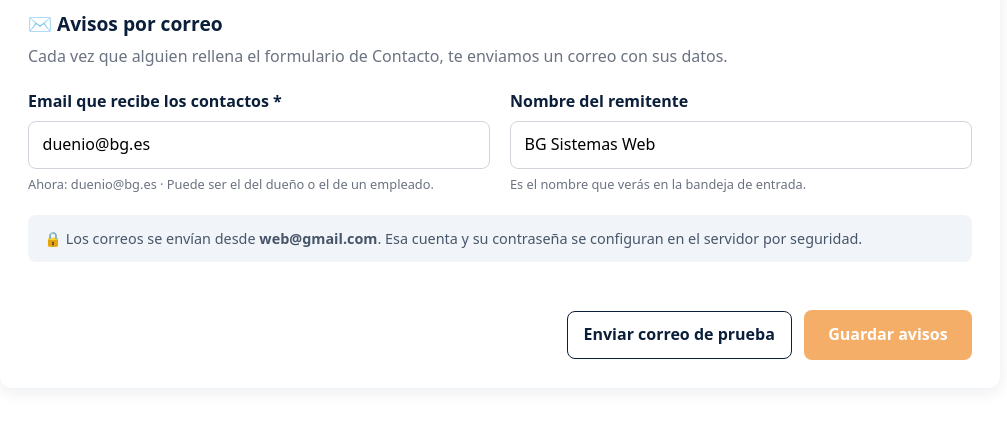
MailSettingsForm (BGSI-261) › asks to repeat the email when it changes and shows when they do not match
Replace the text in the field with id "mail-notify-email" with "nuevo@bg.es". click: (259,145)
box: x1=28 y1=120 x2=490 y2=169
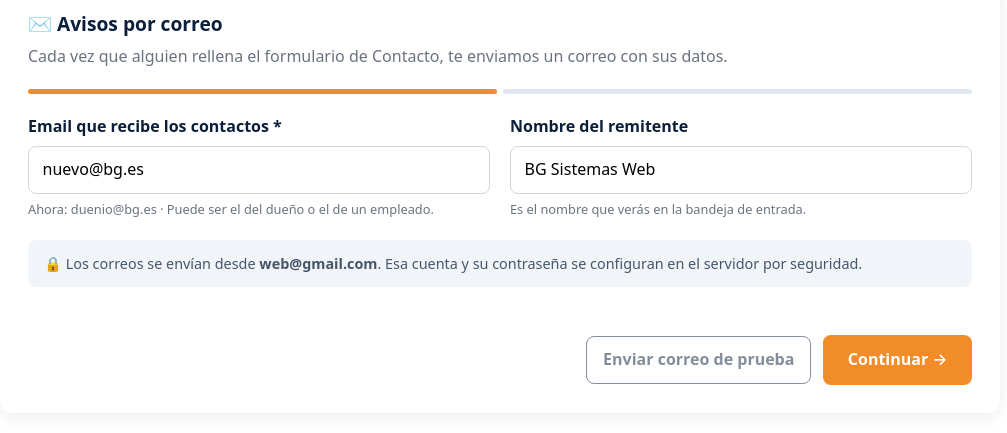
expect the submit button reads "Continuar →": met, box x1=823 y1=335 x2=972 y2=385
Note: Step 2 (BGSI-294): the email is hidden and typed again
Submit the form
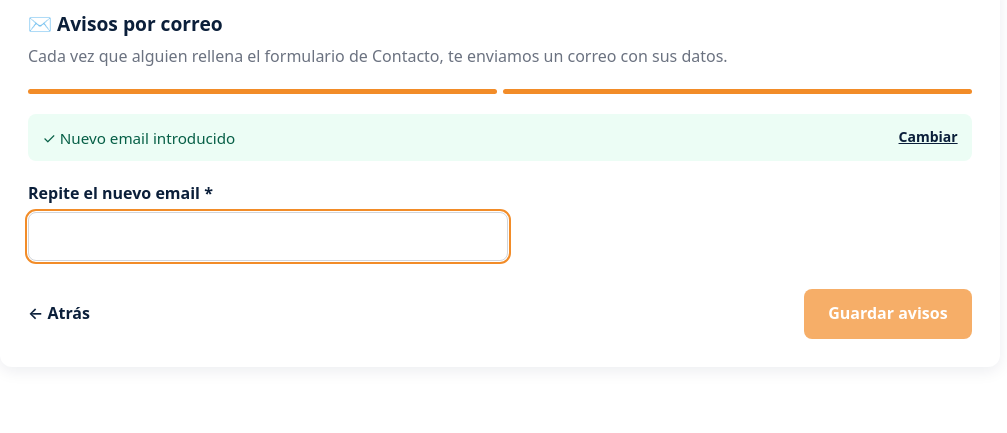
expect the field with id "mail-confirm-email" is shown: met
Type "nuevo@bg.e" into the field with id "mail-confirm-email". click: (268,236)
box: x1=28 y1=212 x2=508 y2=261
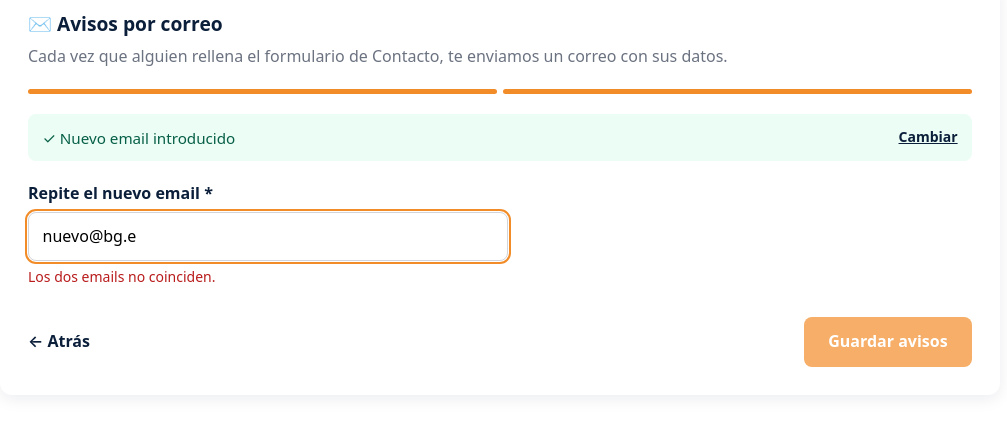
expect the submit button is disabled: met, box x1=804 y1=316 x2=972 y2=367
expect the message "Los dos emails no coinciden." is shown: met, box x1=28 y1=267 x2=216 y2=286
Replace the text in the field with id "mail-confirm-email" with "nuevo@bg.es". click: (268,236)
box: x1=28 y1=212 x2=508 y2=261
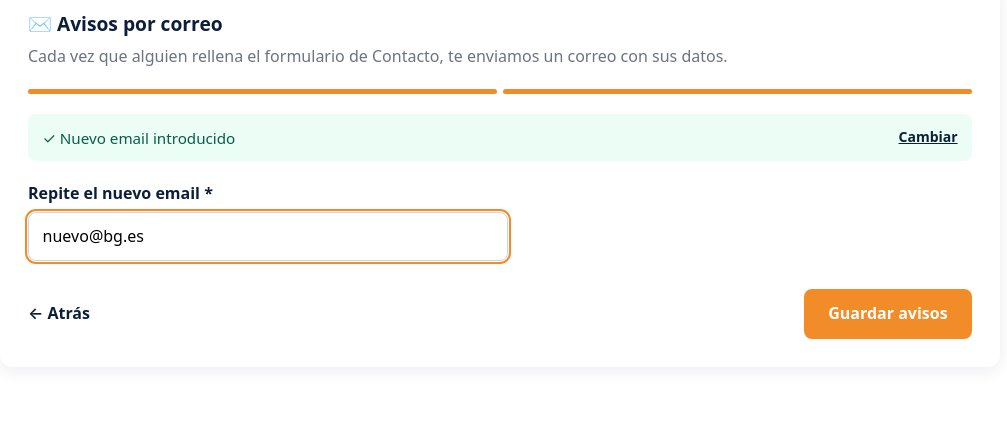
expect the submit button is enabled: met, box x1=804 y1=289 x2=972 y2=339
